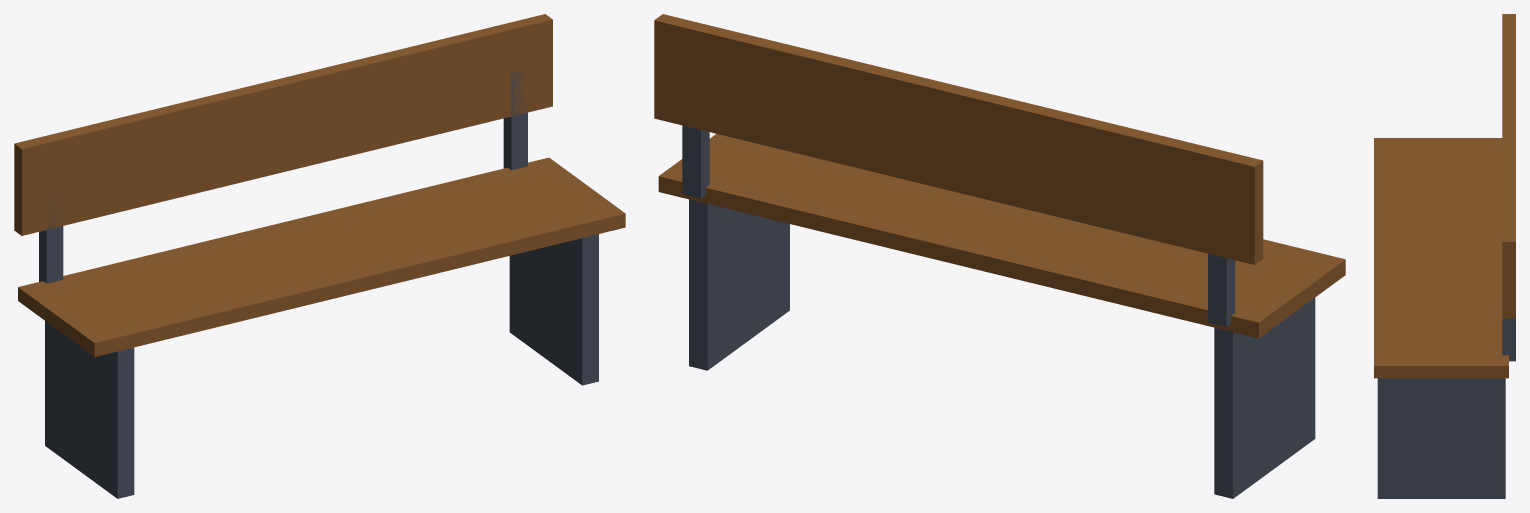
Rendered from park_bench.glb.
The picture shows the model from 3 angles, left to right: view 1: azimuth 30°, elevation 25°; view 2: azimuth 150°, elevation 25°; view 3: azimuth 270°, elevation 25°; orthographic projection. The views are drawn at different scales.
Visible parts, largest first — view 1: park_bench; view 2: park_bench; view 3: park_bench.
Part boxes in pixels (left/top/right/bottom): park_bench: left=14, top=14, right=625, bottom=498; park_bench: left=654, top=14, right=1345, bottom=498; park_bench: left=1374, top=14, right=1515, bottom=498.
Size of the model in its own units: 1.6 by 0.875 by 0.42.
